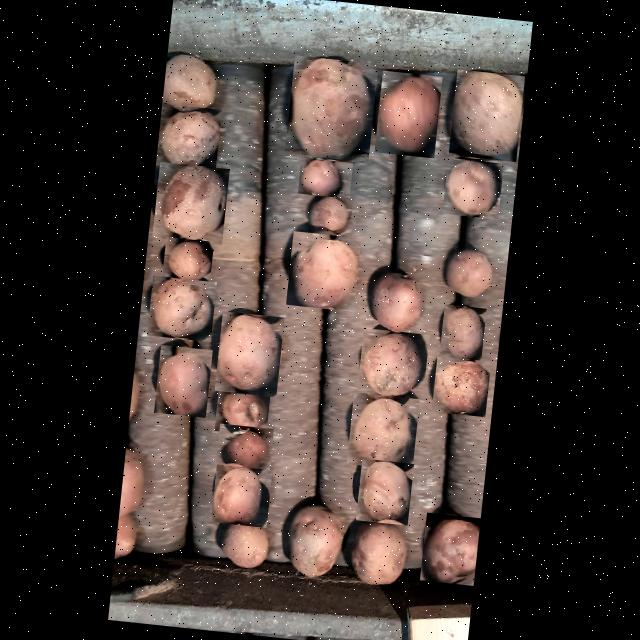Defected potato: (286, 230, 360, 310), (210, 462, 272, 526), (304, 193, 352, 236)
Diseased-fungal potato: (284, 54, 378, 162), (448, 68, 525, 161), (152, 160, 230, 244), (214, 310, 284, 396), (374, 69, 442, 157), (282, 498, 350, 584), (346, 390, 419, 470), (356, 326, 429, 399), (146, 274, 216, 340), (348, 516, 412, 588), (156, 102, 222, 170), (420, 512, 480, 584), (154, 344, 212, 416), (363, 268, 426, 333), (356, 457, 414, 524), (442, 156, 504, 218), (162, 46, 222, 110), (431, 354, 491, 416), (442, 243, 498, 298), (214, 517, 272, 569), (213, 384, 270, 435), (216, 422, 274, 472), (439, 303, 486, 361), (162, 236, 214, 280), (298, 156, 352, 197)
